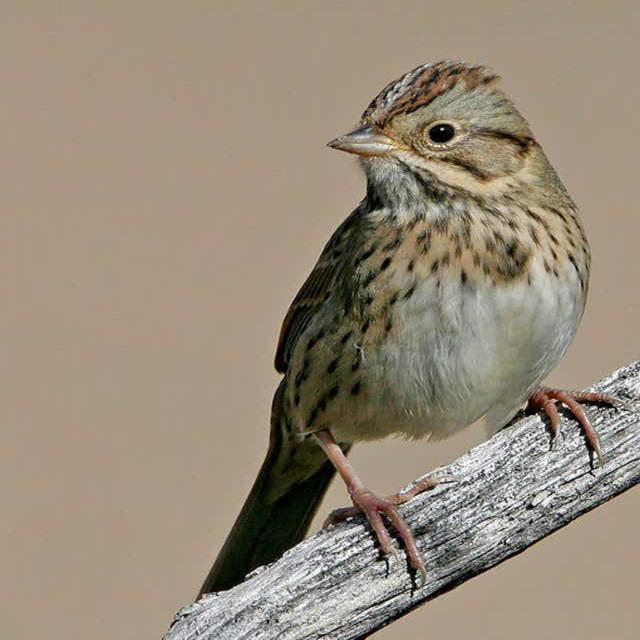Sparrow: (183, 47, 615, 604)
